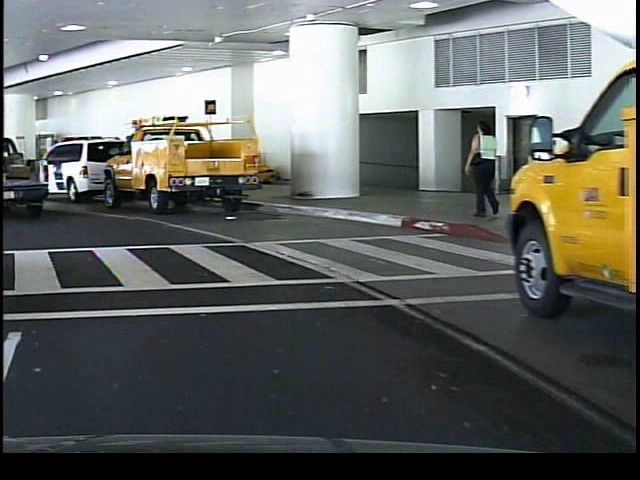person: (459, 116, 496, 223)
